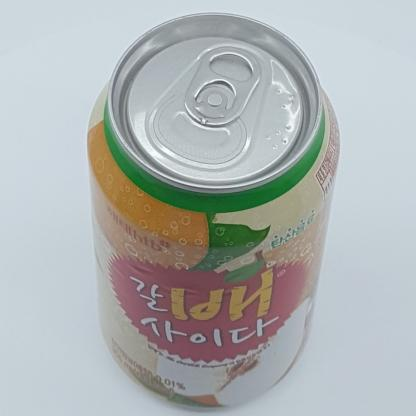-------355ML: (87, 12, 340, 407)
